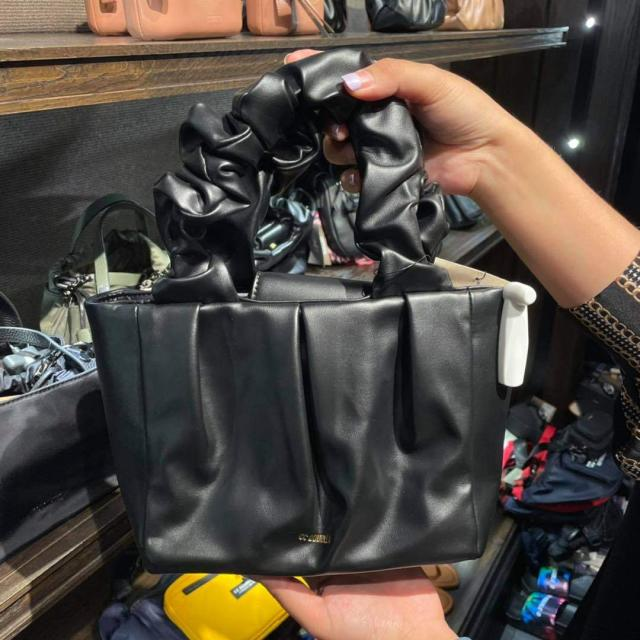handbag: (61, 228, 523, 586)
